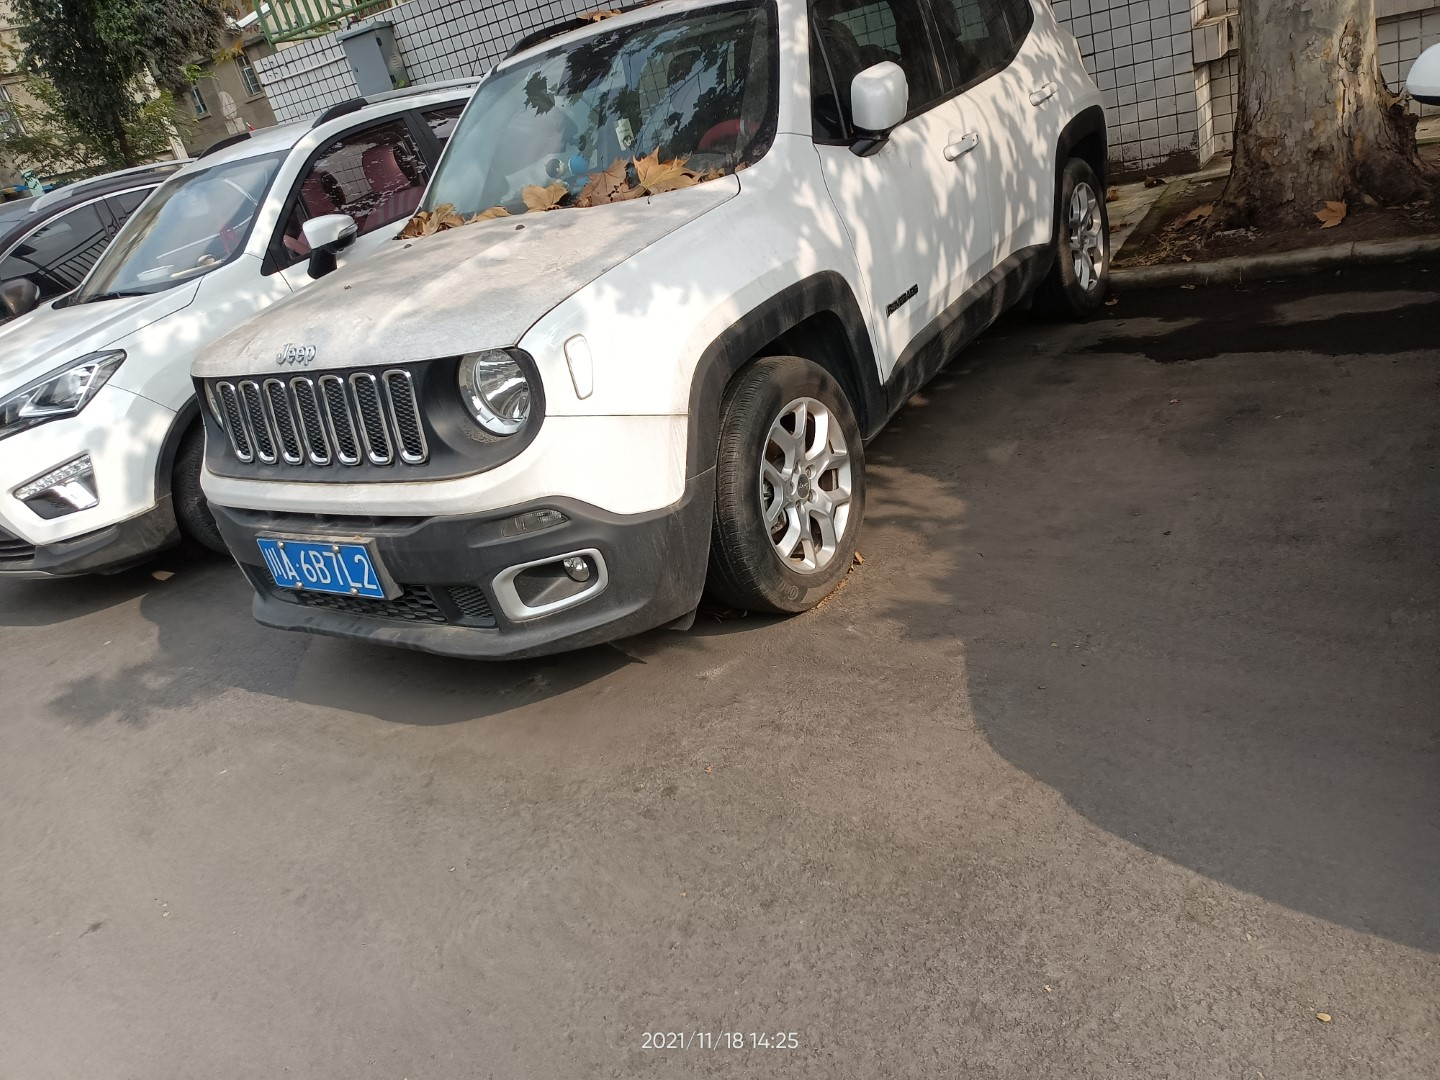plate: (255, 534, 384, 599)
